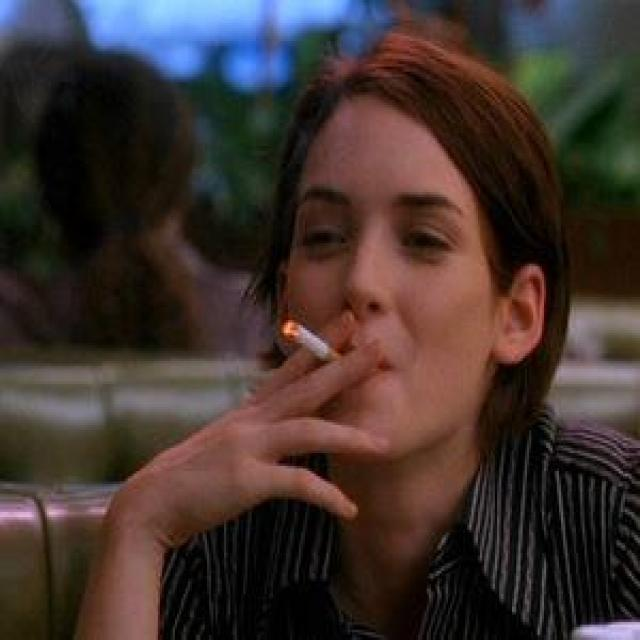cigarette: (268, 300, 362, 400)
